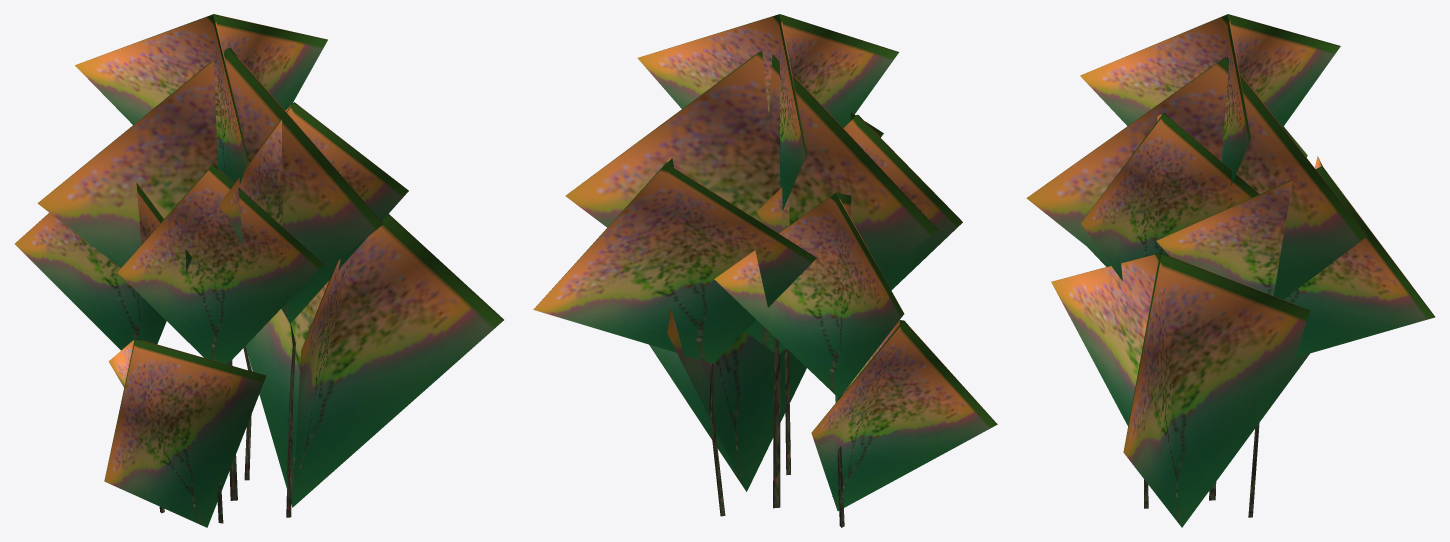
File: xsc_sw_guanmu24.FBX
The picture shows the model from 3 angles, left to right: view 1: azimuth 30°, elevation 25°; view 2: azimuth 150°, elevation 25°; view 3: azimuth 270°, elevation 25°; orthographic projection. The views are drawn at different scales.
Parts seen in each view (by area): view 1: xsc_sw_guanmu24_01A, xsc_sw_guanmu24_02B; view 2: xsc_sw_guanmu24_01A, xsc_sw_guanmu24_02B; view 3: xsc_sw_guanmu24_01A, xsc_sw_guanmu24_02B.
Boxes of the visible parts, x1=… form: xsc_sw_guanmu24_01A: x1=14, y1=14, x2=503, y2=527; xsc_sw_guanmu24_02B: x1=159, y1=321, x2=295, y2=523; xsc_sw_guanmu24_01A: x1=533, y1=14, x2=997, y2=510; xsc_sw_guanmu24_02B: x1=709, y1=337, x2=844, y2=527; xsc_sw_guanmu24_01A: x1=1026, y1=14, x2=1435, y2=527; xsc_sw_guanmu24_02B: x1=1144, y1=423, x2=1259, y2=517.
Bounding box in the file's own units: 372 × 433 × 330.
2 materials, 2 textured.
